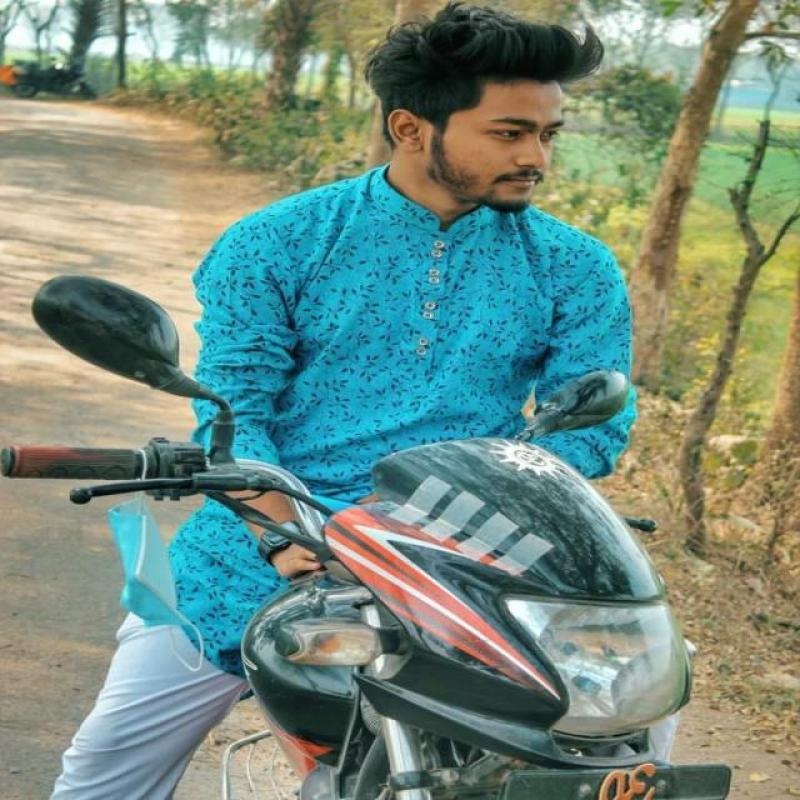nohelmet: (345, 22, 584, 208)
